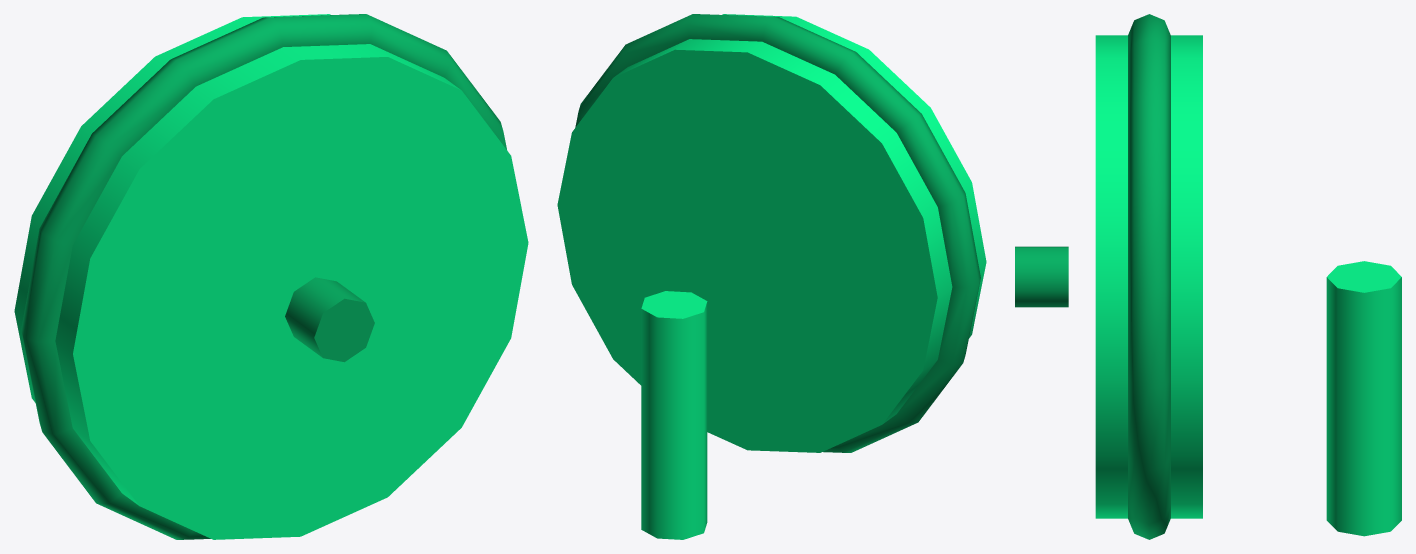
The model's file is manometros.glb.
3 renders of one model, left to right at view 1: azimuth 30°, elevation 25°; view 2: azimuth 150°, elevation 25°; view 3: azimuth 270°, elevation 25°, orthographic. The views are drawn at different scales.
Visible parts, largest first — view 1: Body, Detail; view 2: Body, Detail; view 3: Body, Detail.
Part boxes in pixels (x1,y1,x2,y2): Body: [14, 14, 528, 539]; Detail: [21, 14, 506, 539]; Body: [557, 14, 986, 539]; Detail: [575, 14, 980, 452]; Body: [1095, 35, 1401, 536]; Detail: [1015, 14, 1170, 539].
Size of the model in its own units: 0.196 by 0.198 by 0.144.
